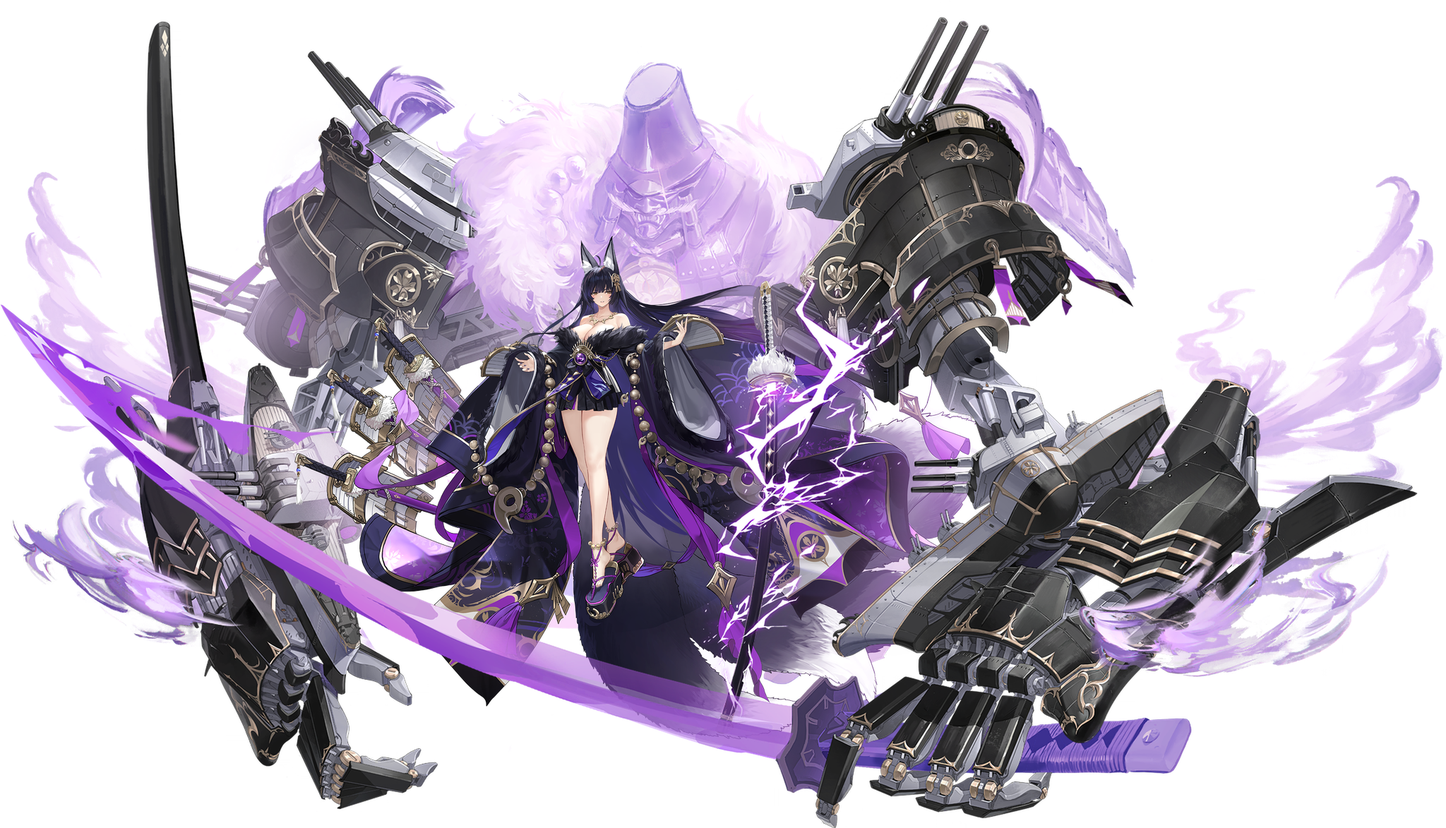person: (467, 234, 717, 671)
